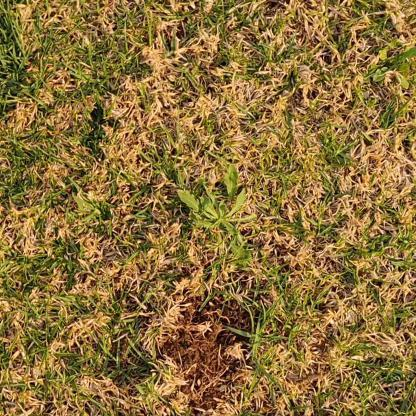Weeds: (178, 165, 254, 254), (370, 46, 415, 93)
